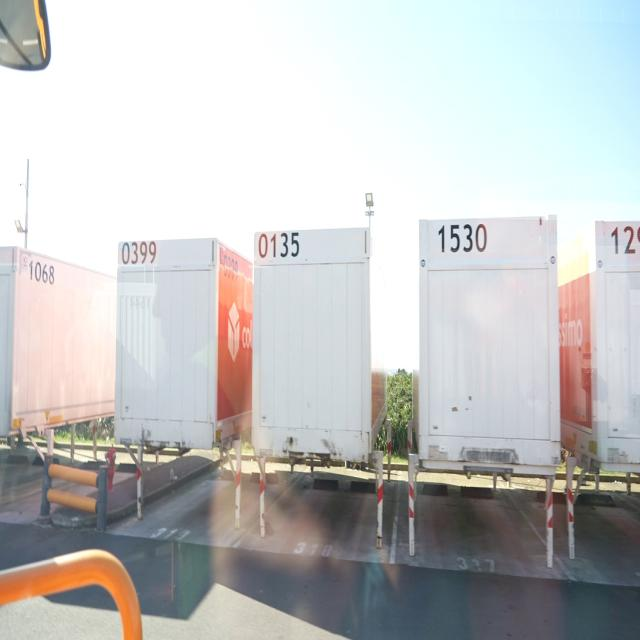Code: (255, 227, 304, 266), (438, 218, 490, 254), (118, 240, 160, 268), (26, 255, 56, 288)
